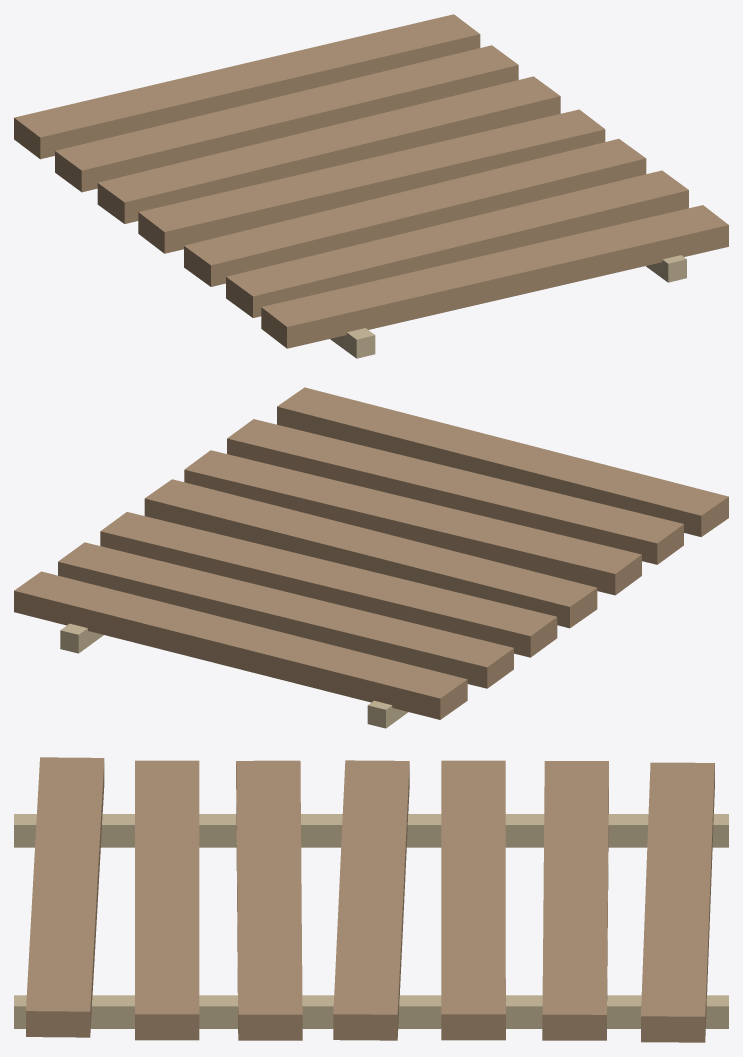
File: bridge-rope-deck.glb
3 renders of one model, top to bottom at view 1: azimuth 30°, elevation 25°; view 2: azimuth 150°, elevation 25°; view 3: azimuth 270°, elevation 25°, orthographic. The views are drawn at different scales.
Visible parts, largest first — view 1: bridge-rope-deck; view 2: bridge-rope-deck; view 3: bridge-rope-deck.
Part boxes in pixels (x1,y1,x2,y2): bridge-rope-deck: [14, 14, 728, 358]; bridge-rope-deck: [14, 387, 728, 728]; bridge-rope-deck: [14, 757, 728, 1042].
Size of the model in its own units: 0.8586 by 0.07 by 1.
